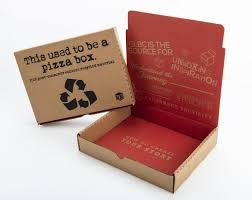paper: (73, 3, 229, 195), (10, 26, 139, 129)
